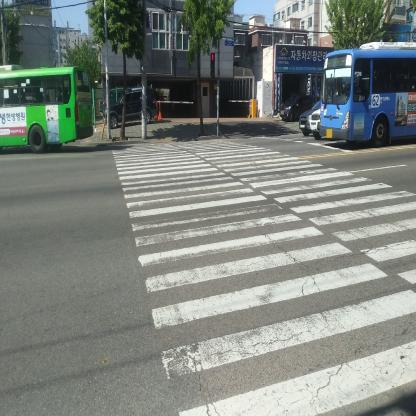Red: (210, 53, 215, 78)
